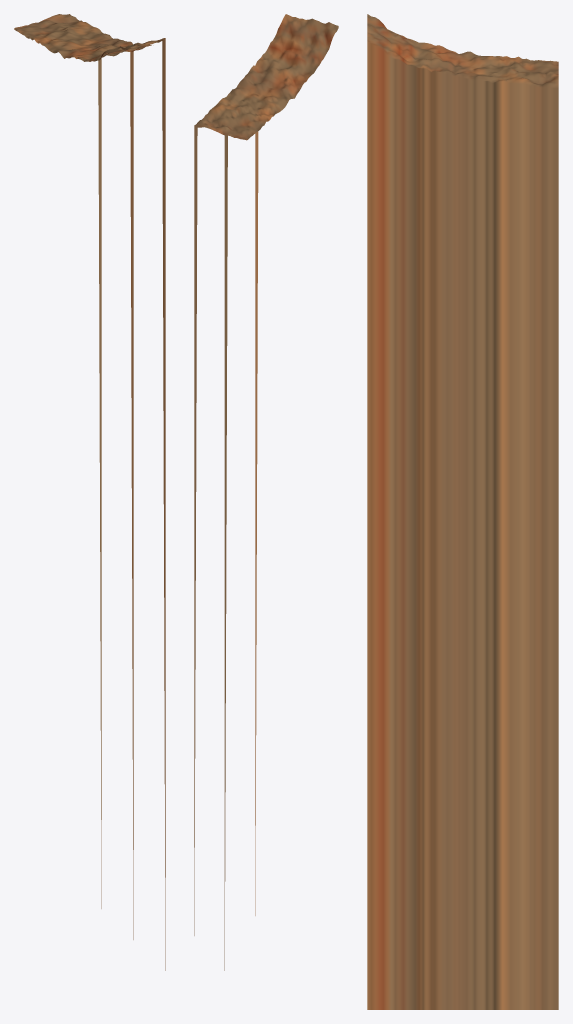
File: terrain-166.glb
3 renders of one model, left to right at view 1: azimuth 30°, elevation 25°; view 2: azimuth 150°, elevation 25°; view 3: azimuth 270°, elevation 25°, orthographic. The views are drawn at different scales.
Visible parts, largest first — view 1: terrain-166; view 2: terrain-166; view 3: terrain-166.
Part boxes in pixels (x1=…): terrain-166: x1=14, y1=14, x2=165, y2=970; terrain-166: x1=194, y1=14, x2=338, y2=970; terrain-166: x1=367, y1=14, x2=558, y2=1009.
Bounding box in the file's own units: 128 × 2153 × 384.
